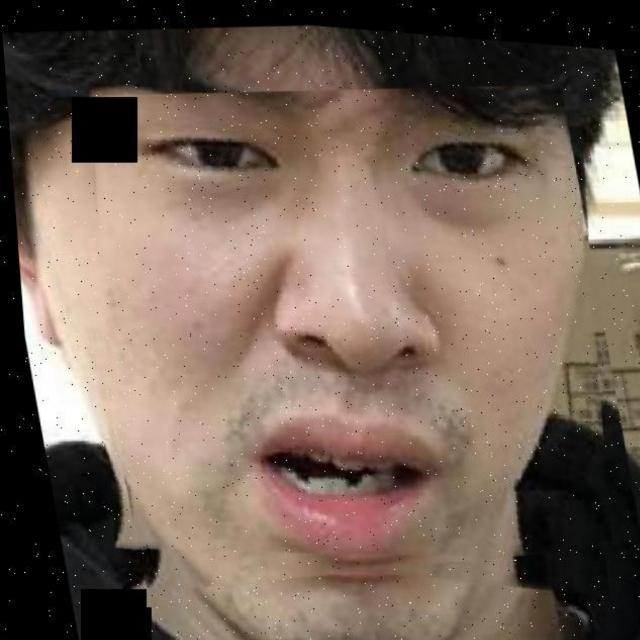Surprised: (87, 76, 610, 640)
